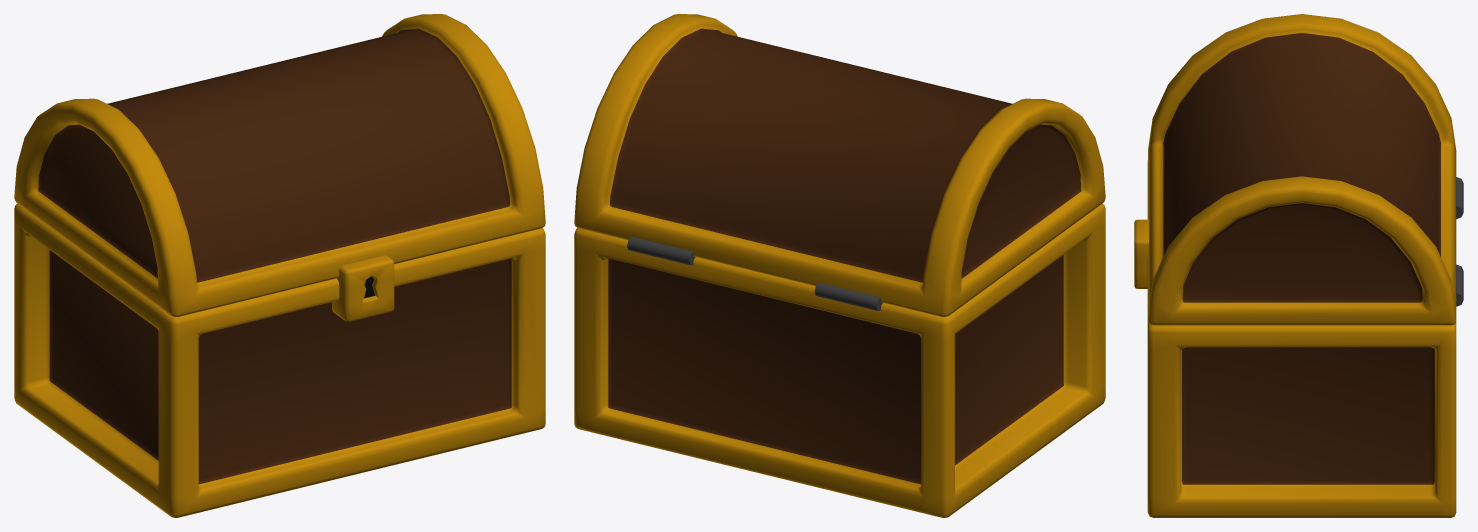
File: sundukMult.fbx
The picture shows the model from 3 angles, left to right: view 1: azimuth 30°, elevation 25°; view 2: azimuth 150°, elevation 25°; view 3: azimuth 270°, elevation 25°; orthographic projection. The views are drawn at different scales.
Parts seen in each view (by area): view 1: sunduk.001; view 2: sunduk.001; view 3: sunduk.001.
Boxes of the visible parts, <box> form: sunduk.001: <box>14,14,545,517</box>; sunduk.001: <box>574,14,1105,517</box>; sunduk.001: <box>1134,14,1463,517</box>.
Size of the model in its own units: 125 by 111 by 99.22.
